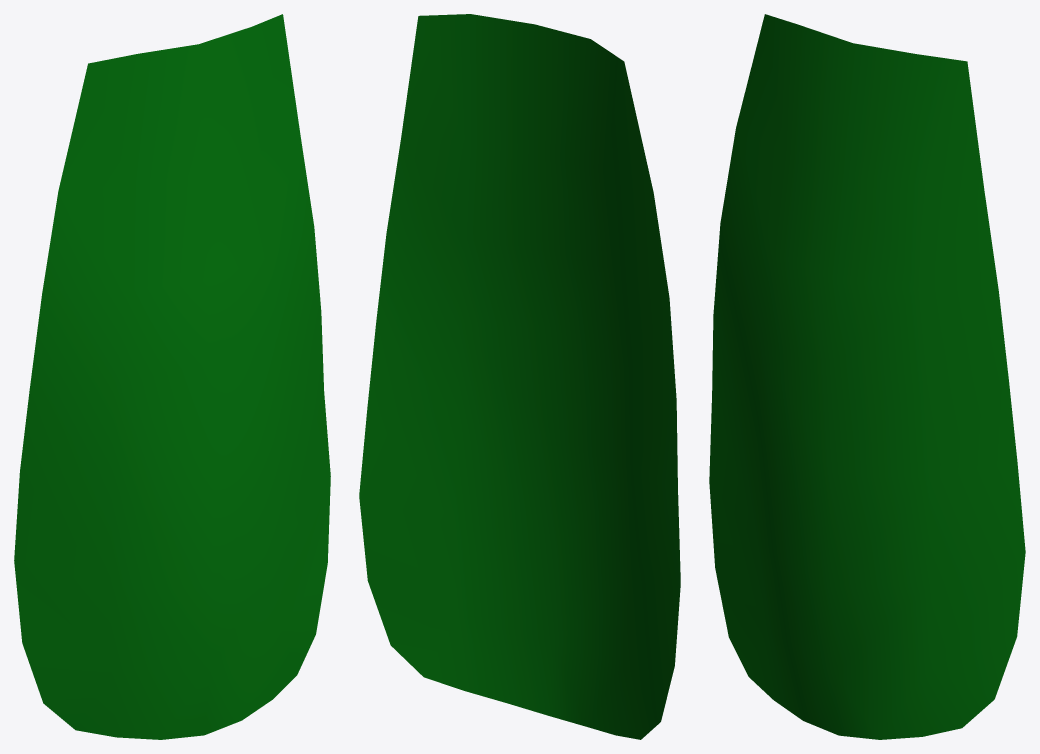
The model's file is MD_nail_square_HandL.Thumb.fbx.
3 renders of one model, left to right at view 1: azimuth 30°, elevation 25°; view 2: azimuth 150°, elevation 25°; view 3: azimuth 330°, elevation 25°, orthographic. The views are drawn at different scales.
Parts seen in each view (by area): view 1: MD_nail_square_HandL.Thumb; view 2: MD_nail_square_HandL.Thumb; view 3: MD_nail_square_HandL.Thumb.
Part boxes in pixels (left/top/right/bottom): MD_nail_square_HandL.Thumb: left=14, top=14, right=330, bottom=739; MD_nail_square_HandL.Thumb: left=359, top=14, right=680, bottom=739; MD_nail_square_HandL.Thumb: left=709, top=14, right=1025, bottom=739.
Size of the model in its own units: 0.9338 by 1.94 by 0.1994.
